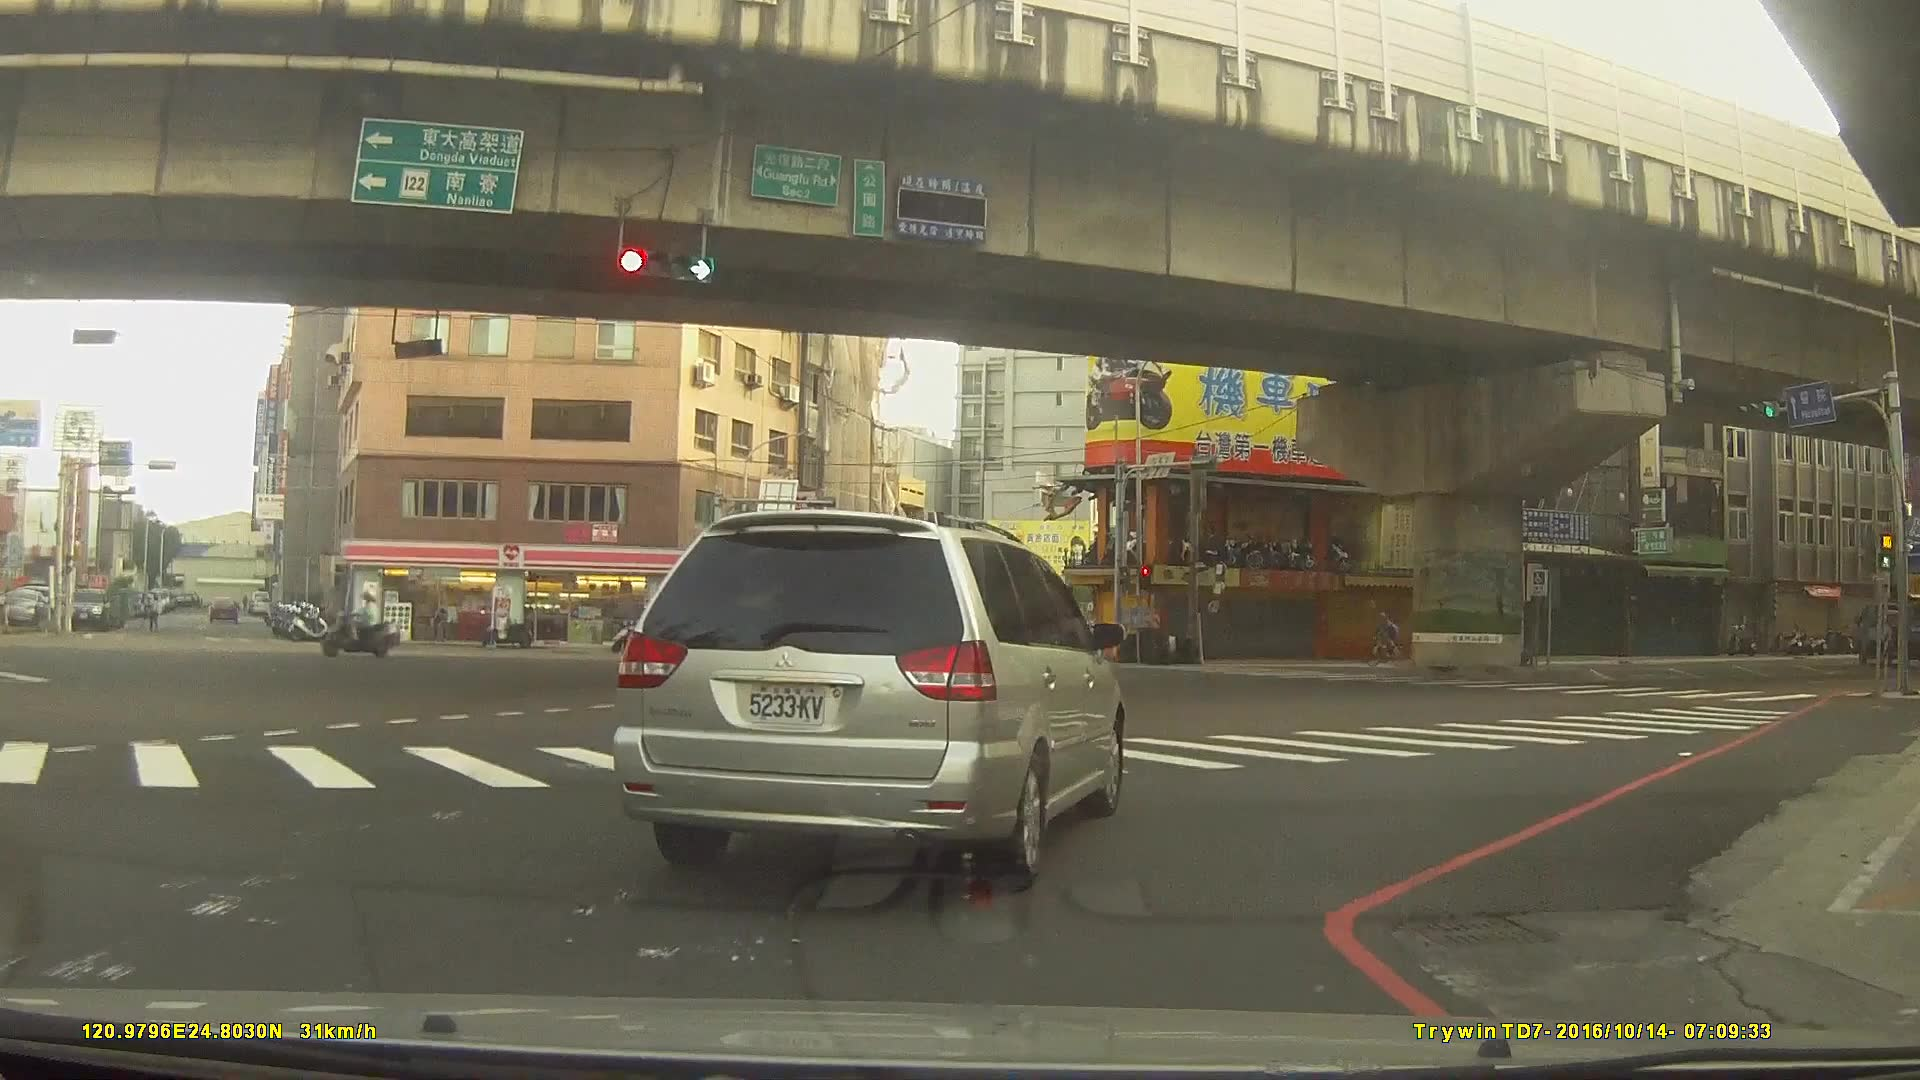rider: (324, 591, 401, 659), (1361, 611, 1407, 670)
vehicle: (608, 507, 1127, 880), (1853, 600, 1920, 665), (869, 628, 939, 668), (65, 585, 109, 630), (543, 606, 605, 633), (204, 593, 238, 622)
